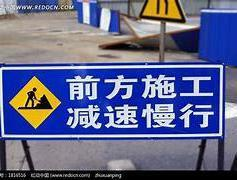sign: (1, 64, 223, 138)
